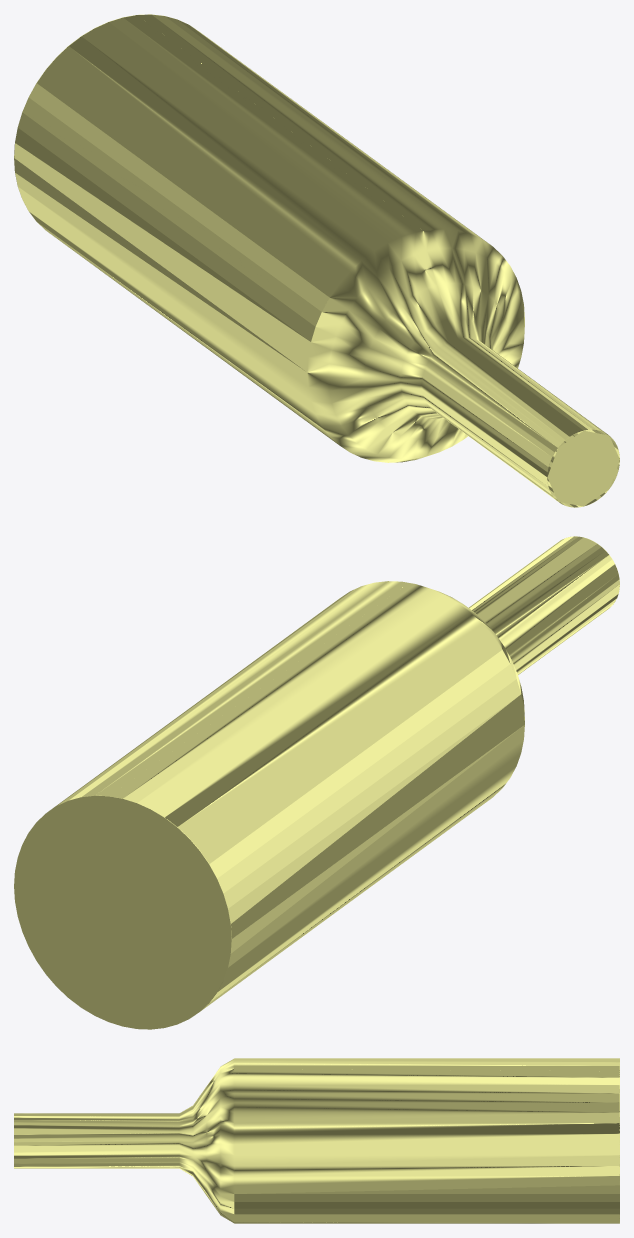
File: model_align.obj
3 views of the same model, one above another, from view 1: azimuth 30°, elevation 25°; view 2: azimuth 150°, elevation 25°; view 3: azimuth 270°, elevation 25° (orthographic). The views are drawn at different scales.
Size of the model in its own units: 0.0431 by 0.0431 by 0.1582.
